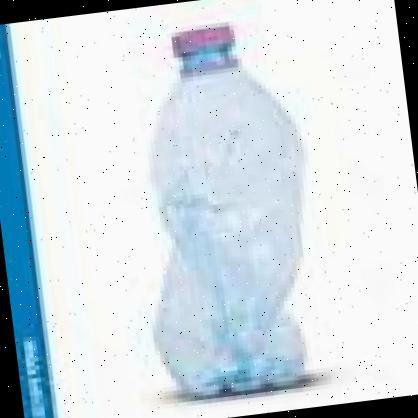bottle: (108, 4, 340, 406)
cap: (162, 18, 240, 70)
